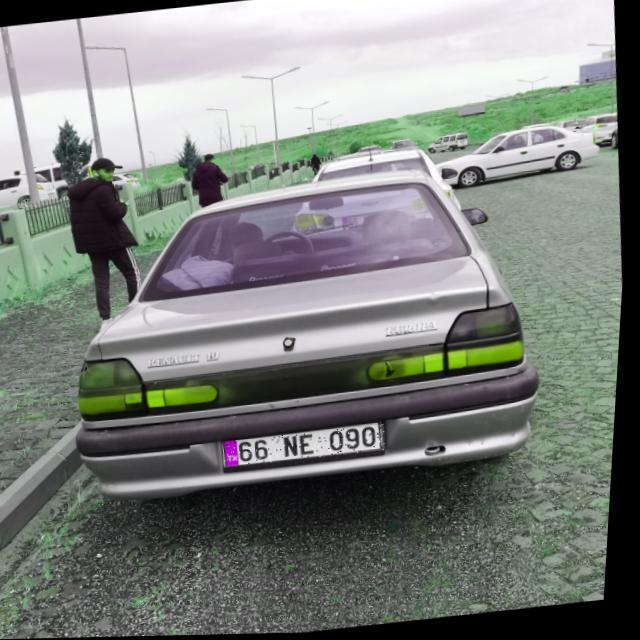license_plate: (226, 425, 391, 468)
